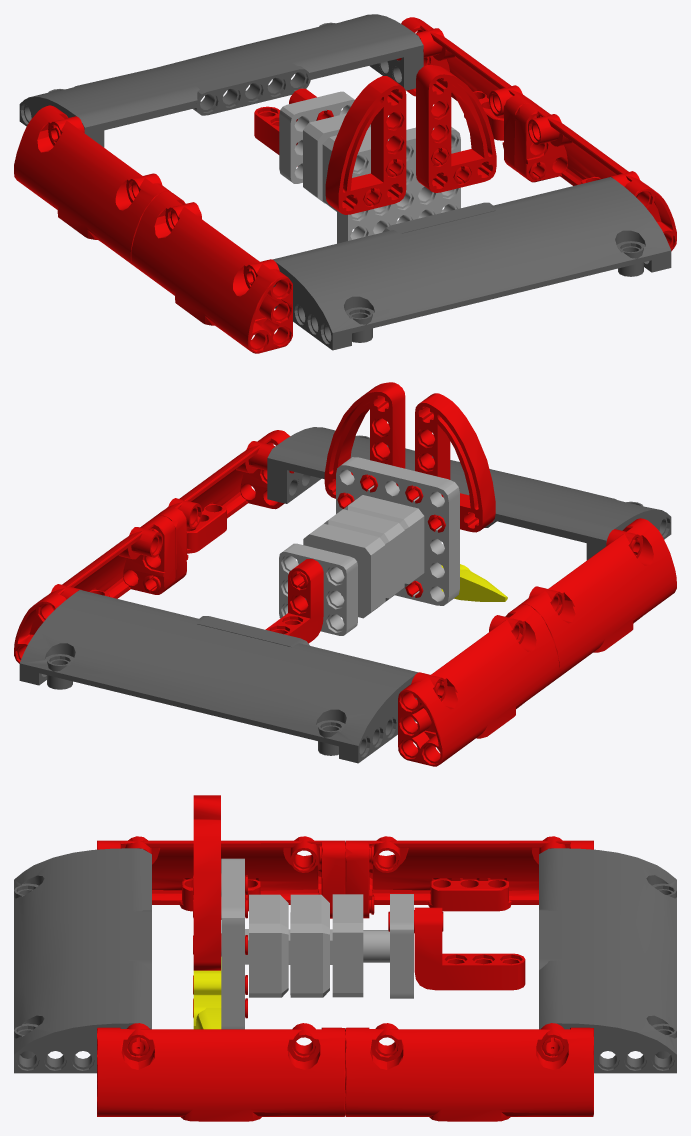
The model's file is dadishu_tool2.fbx.
The picture shows the model from 3 angles, top to bottom: view 1: azimuth 30°, elevation 25°; view 2: azimuth 150°, elevation 25°; view 3: azimuth 270°, elevation 25°; orthographic projection. The views are drawn at different scales.
Visible parts, largest first — view 1: polySurface114; view 2: polySurface114; view 3: polySurface114.
Boxes of the visible parts, x1=… form: polySurface114: x1=14, y1=14, x2=676, y2=353; polySurface114: x1=14, y1=382, x2=676, y2=766; polySurface114: x1=14, y1=795, x2=676, y2=1121.
Size of the model in its own units: 114 by 48.37 by 144.
